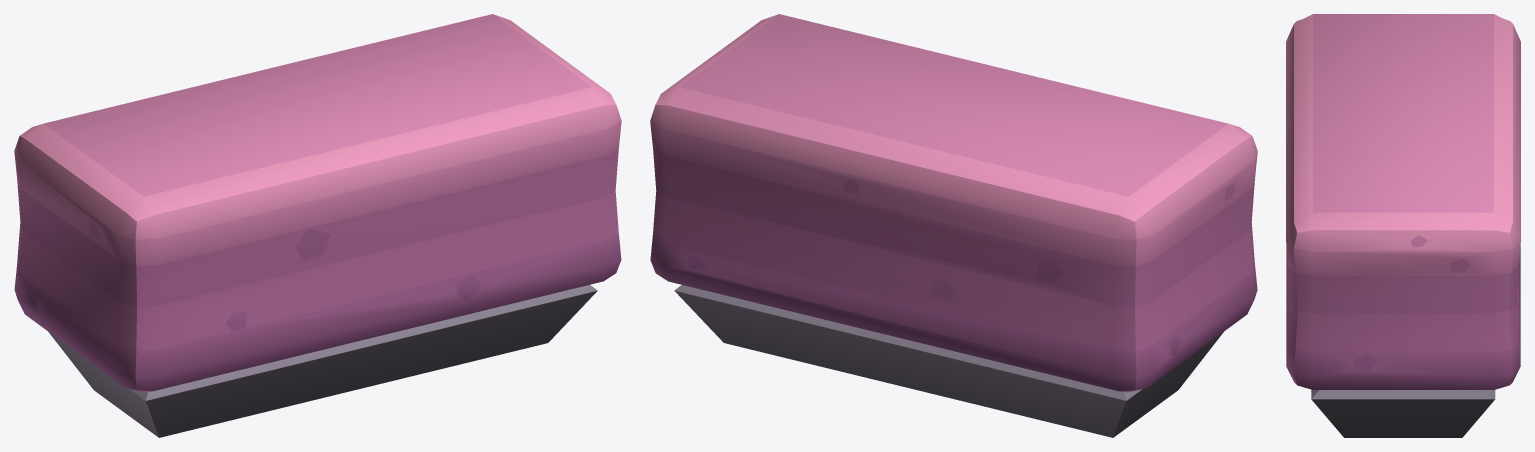
File: garden_bush_4.glb
3 renders of one model, left to right at view 1: azimuth 30°, elevation 25°; view 2: azimuth 150°, elevation 25°; view 3: azimuth 270°, elevation 25°, orthographic. The views are drawn at different scales.
Visible parts, largest first — view 1: garden_bush_4; view 2: garden_bush_4; view 3: garden_bush_4.
Part boxes in pixels (box(x1,y1,x2,y2)): garden_bush_4: box(14, 14, 621, 437); garden_bush_4: box(650, 14, 1257, 437); garden_bush_4: box(1286, 14, 1520, 437).
Size of the model in its own units: 1.76 by 0.8799 by 0.7892.
Materials: 1 (1 with a texture image).
